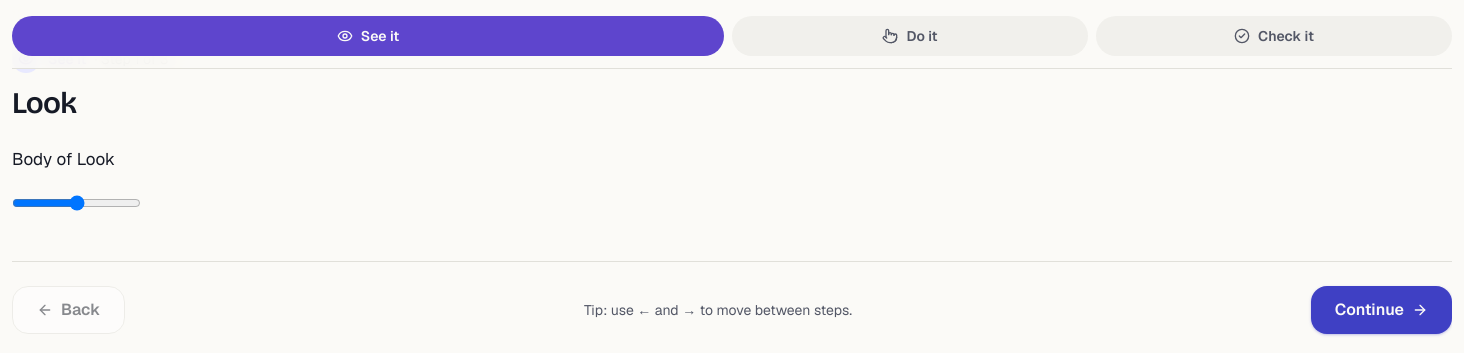
Test: LessonDeck › jumps to a step from the progress bar and marks it current
Click the button with aria-label "Step 3 of 3". click: (1274, 36)
box: [1096,16,1452,56]
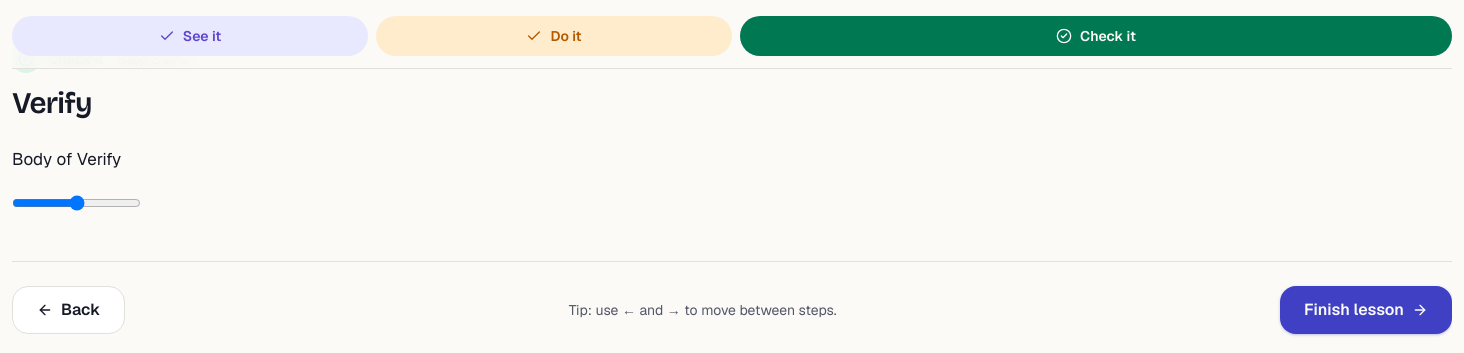
Check: the heading reads "Verify", box [12,85,92,121]
